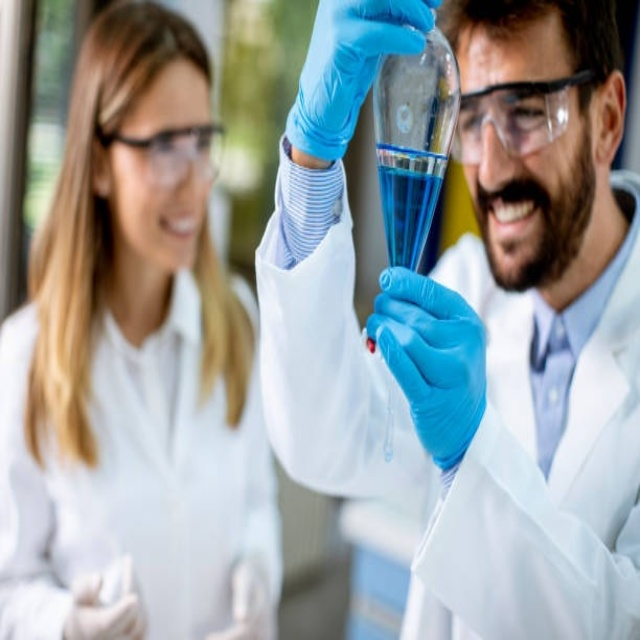Gafas: (453, 71, 596, 163), (100, 121, 226, 189)
Guantes: (367, 260, 492, 450), (283, 3, 436, 146), (65, 568, 148, 635)
Sin_mascara: (477, 193, 553, 260), (151, 202, 206, 259)
